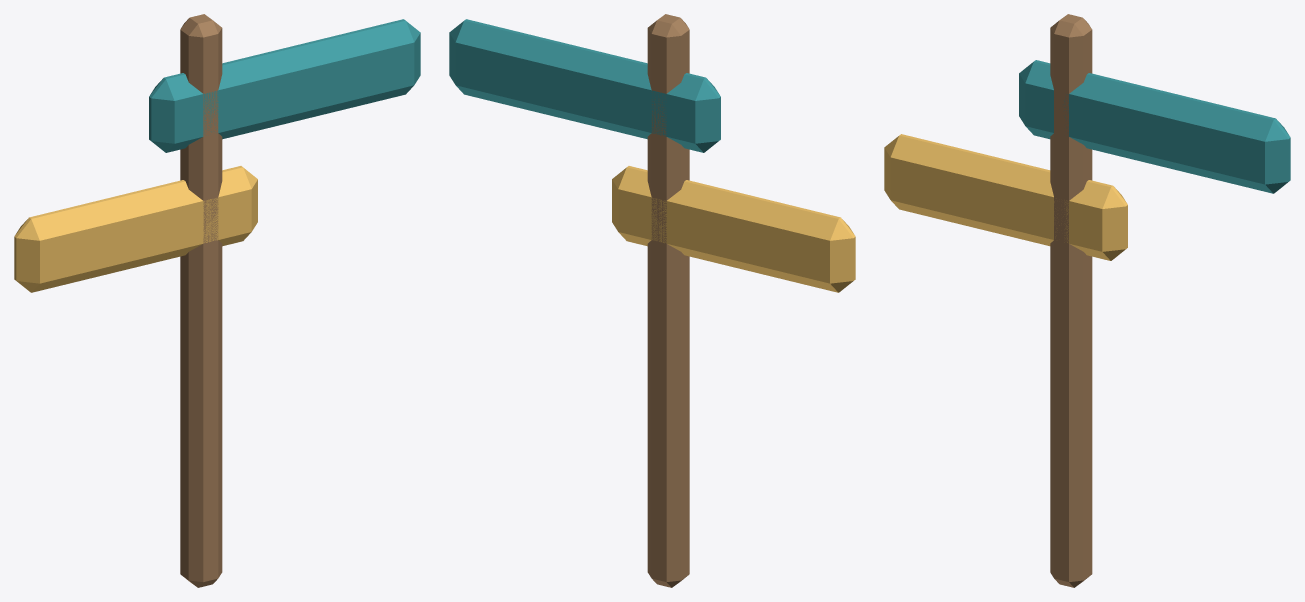
3 renders of one model, left to right at view 1: azimuth 30°, elevation 25°; view 2: azimuth 150°, elevation 25°; view 3: azimuth 330°, elevation 25°, orthographic.
Parts seen in each view (by area): view 1: LOD2_TRAIL_SIGNPOST_Pole, LOD2_TRAIL_SIGNPOST_ArrowA, LOD2_TRAIL_SIGNPOST_ArrowB; view 2: LOD2_TRAIL_SIGNPOST_Pole, LOD2_TRAIL_SIGNPOST_ArrowA, LOD2_TRAIL_SIGNPOST_ArrowB; view 3: LOD2_TRAIL_SIGNPOST_Pole, LOD2_TRAIL_SIGNPOST_ArrowA, LOD2_TRAIL_SIGNPOST_ArrowB.
Boxes of the visible parts, left/top/right/bottom form: LOD2_TRAIL_SIGNPOST_Pole: left=180, top=14, right=222, bottom=587; LOD2_TRAIL_SIGNPOST_ArrowA: left=149, top=19, right=420, bottom=152; LOD2_TRAIL_SIGNPOST_ArrowB: left=14, top=166, right=257, bottom=292; LOD2_TRAIL_SIGNPOST_Pole: left=647, top=14, right=689, bottom=587; LOD2_TRAIL_SIGNPOST_ArrowA: left=449, top=19, right=720, bottom=152; LOD2_TRAIL_SIGNPOST_ArrowB: left=612, top=166, right=855, bottom=292; LOD2_TRAIL_SIGNPOST_Pole: left=1050, top=14, right=1092, bottom=587; LOD2_TRAIL_SIGNPOST_ArrowA: left=1019, top=60, right=1290, bottom=193; LOD2_TRAIL_SIGNPOST_ArrowB: left=884, top=134, right=1127, bottom=260.
Size of what is drawn, in the model's own units: 2.18 by 2.9 by 0.18.
